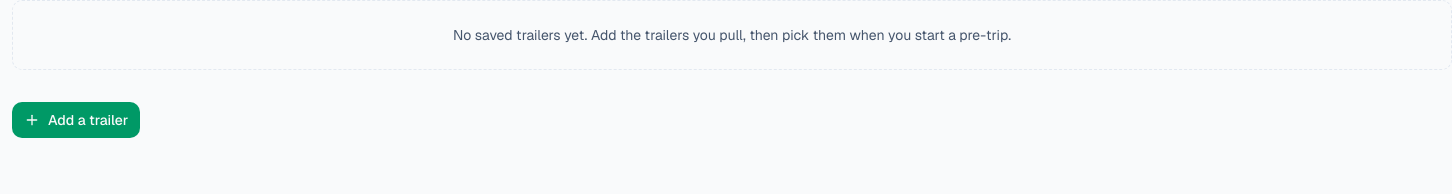
it: TrailerList › says when there are none, and adds one
Expected: the text "No saved trailers yet" is shown, top-left (453, 26), bottom-right (1011, 44)
Click the button "Add a trailer" at (76, 120), box top-left (12, 102), bottom-right (140, 138)
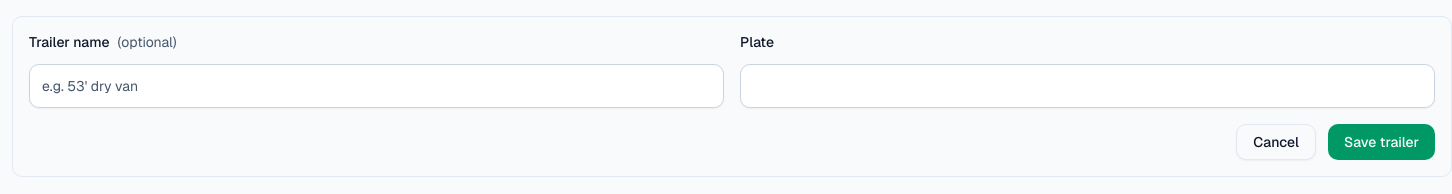
Type "Flatdeck" into the field labelled "Trailer name (optional)" at (376, 86), box top-left (29, 64), bottom-right (724, 108)
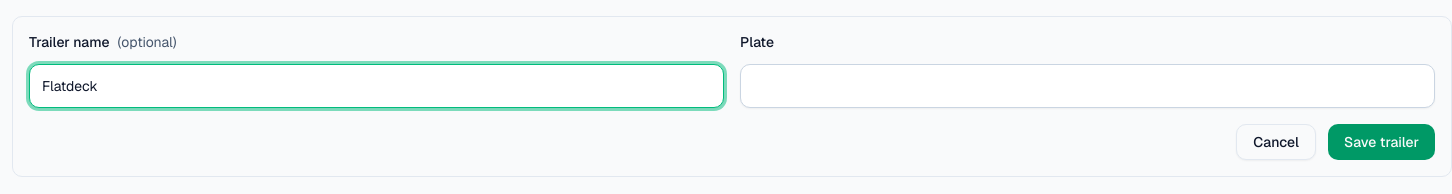
Type "FD 1" into the field labelled "Plate" at (1088, 86), box top-left (740, 64), bottom-right (1435, 108)
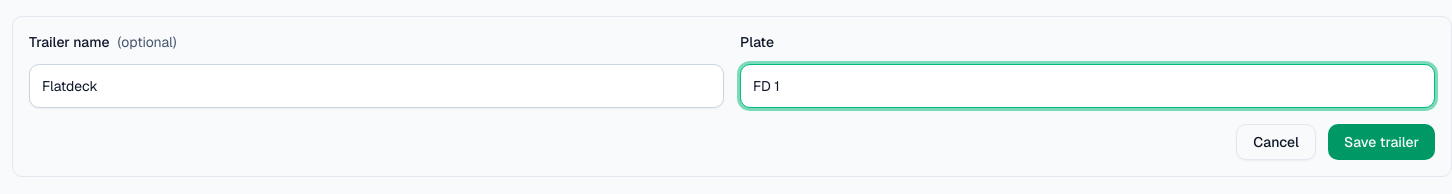
Click the button "Save trailer" at (1381, 142), box top-left (1328, 124), bottom-right (1435, 160)
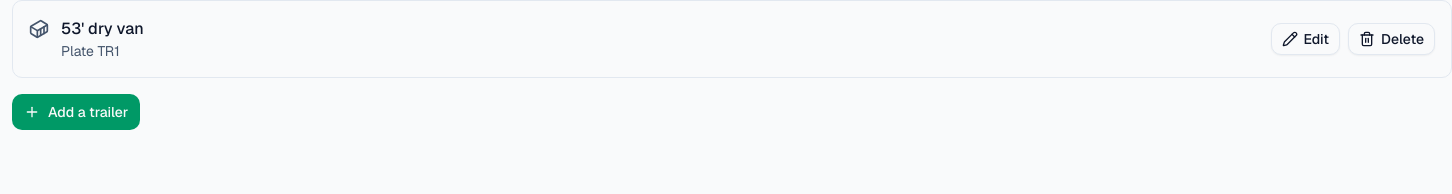
Result: the button "Add a trailer" is shown at top-left (12, 94), bottom-right (140, 130)
